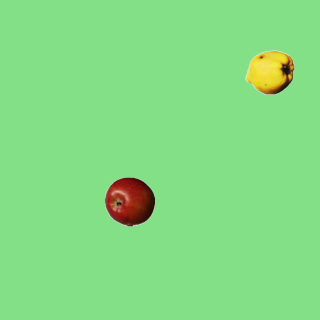Apple Braeburn: (104, 176, 154, 226)
Quince: (244, 47, 294, 97)
